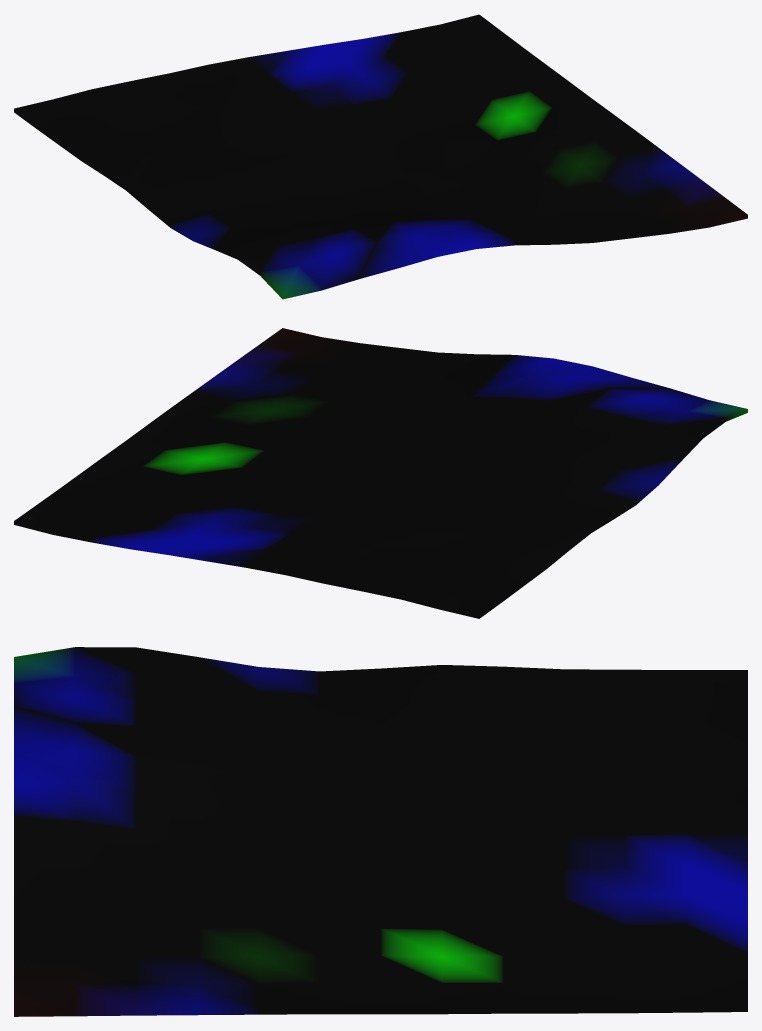
File: coast_5_7.glb
3 renders of one model, top to bottom at view 1: azimuth 30°, elevation 25°; view 2: azimuth 150°, elevation 25°; view 3: azimuth 270°, elevation 25°, orthographic. The views are drawn at different scales.
Visible parts, largest first — view 1: terrain; view 2: terrain; view 3: terrain.
Boxes of the visible parts, x1,y1,x2,y2 form: terrain: [14, 14, 747, 299]; terrain: [14, 328, 747, 618]; terrain: [14, 647, 747, 1016].
Size of the model in its own units: 192 by 17.65 by 192.
